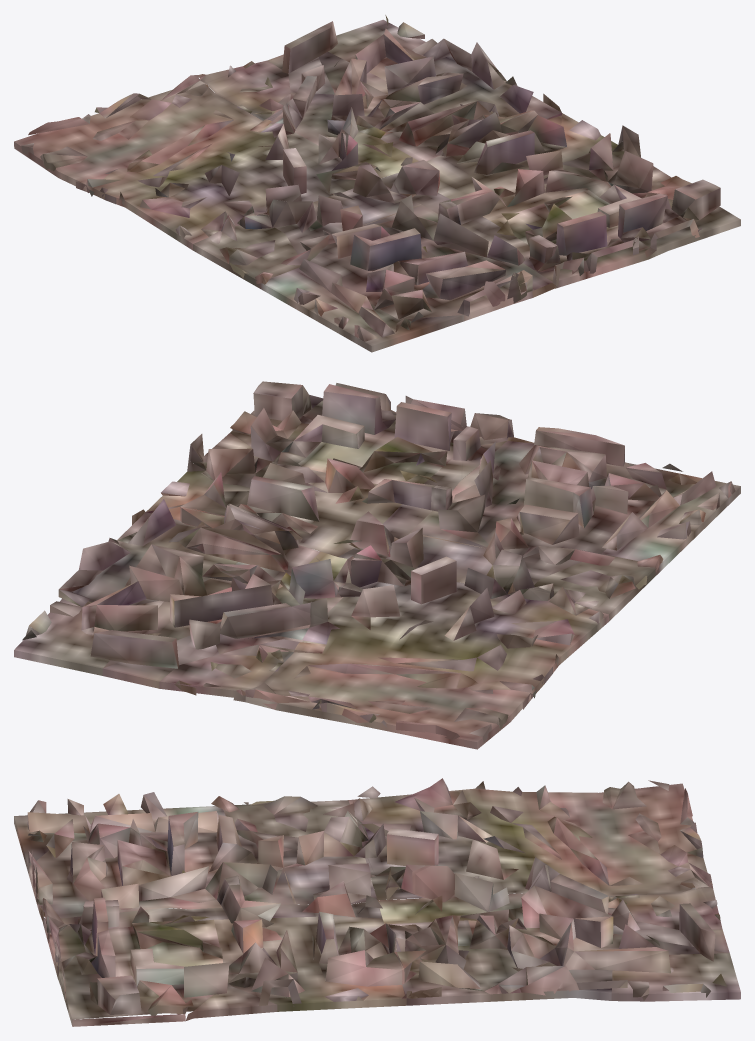
3 views of the same model, one above another, from view 1: azimuth 30°, elevation 25°; view 2: azimuth 150°, elevation 25°; view 3: azimuth 270°, elevation 25° (orthographic). The views are drawn at different scales.
Visible parts, largest first — view 1: Mesh_0; view 2: Mesh_0; view 3: Mesh_0.
Part boxes in pixels (left/top/right/bottom): Mesh_0: left=14, top=15, right=740, bottom=352; Mesh_0: left=14, top=381, right=740, bottom=749; Mesh_0: left=14, top=778, right=740, bottom=1026.
Size of the model in its own units: 532 by 56.96 by 659.
Materials: 2 (2 with a texture image).
